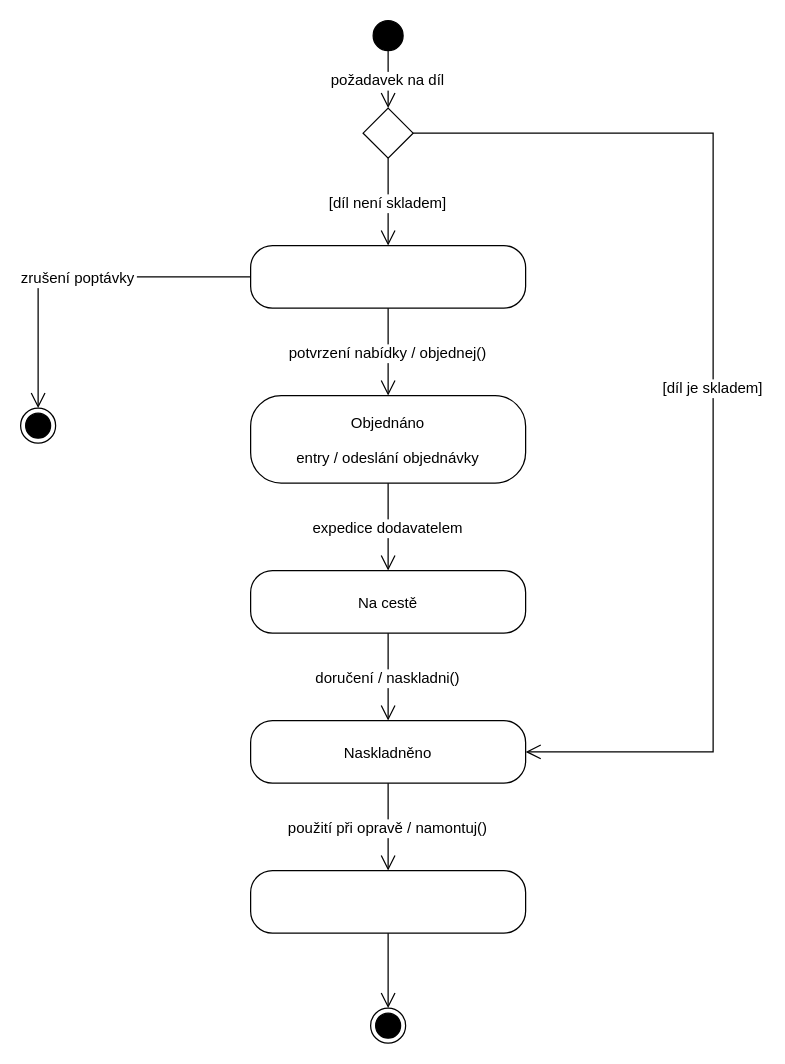
Some shapes in this 785 by 1064 pixel diagram are drawn without their labels. The centre of each missing label's shape, as x and y in pixels:
"Namontováno" goes at pixel 387 901.
"Poptáno" goes at pixel 387 276.
